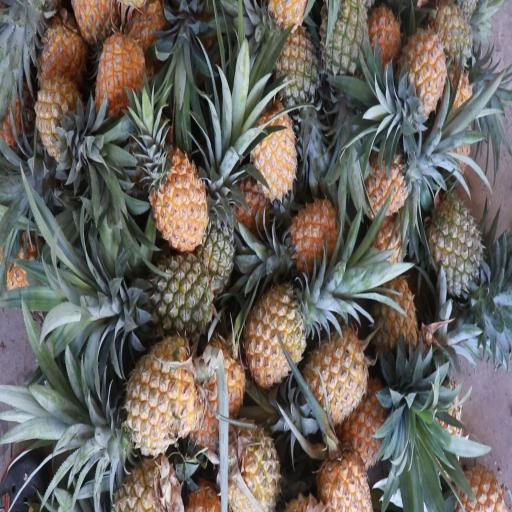------------------------------: (268, 22, 322, 109)
Pineapple - v8 v1: (109, 334, 208, 459), (241, 272, 320, 384), (27, 62, 99, 168), (306, 319, 375, 429), (186, 324, 245, 452), (144, 133, 211, 244), (88, 29, 147, 150), (215, 407, 282, 512), (388, 7, 449, 121), (363, 258, 420, 368), (106, 432, 184, 512), (244, 98, 301, 197), (279, 194, 341, 280), (352, 136, 414, 216), (440, 446, 508, 512), (314, 443, 375, 512)
